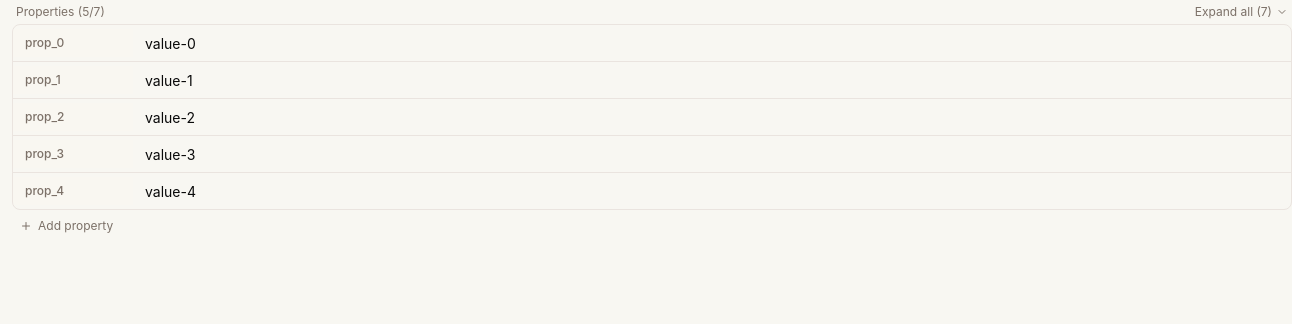
PropertyPanel › expand button shows all rows after click
Click the button "Expand all (7)" at [1241, 12], box x1=1195 y1=4 x2=1288 y2=20
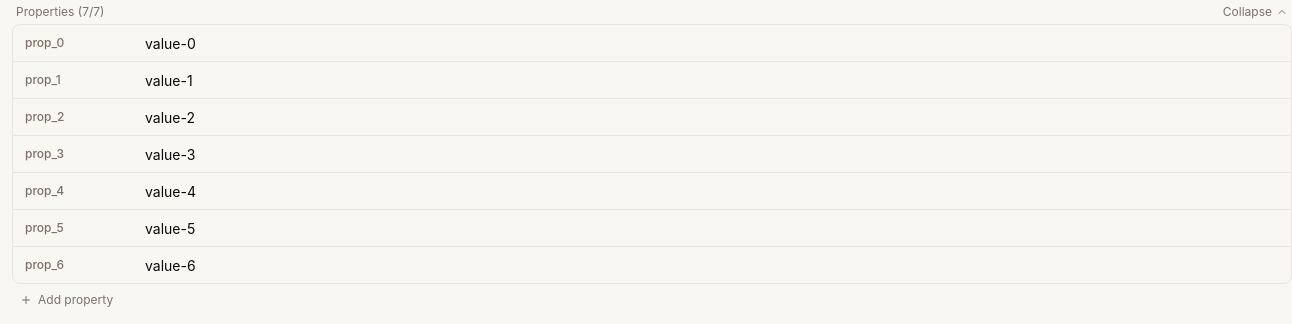
Check: the text "prop_5" is shown, box x1=13 y1=214 x2=133 y2=242
Check: the text "prop_6" is shown, box x1=13 y1=251 x2=133 y2=279
Check: the button "Collapse" is shown, box x1=1223 y1=4 x2=1288 y2=20
